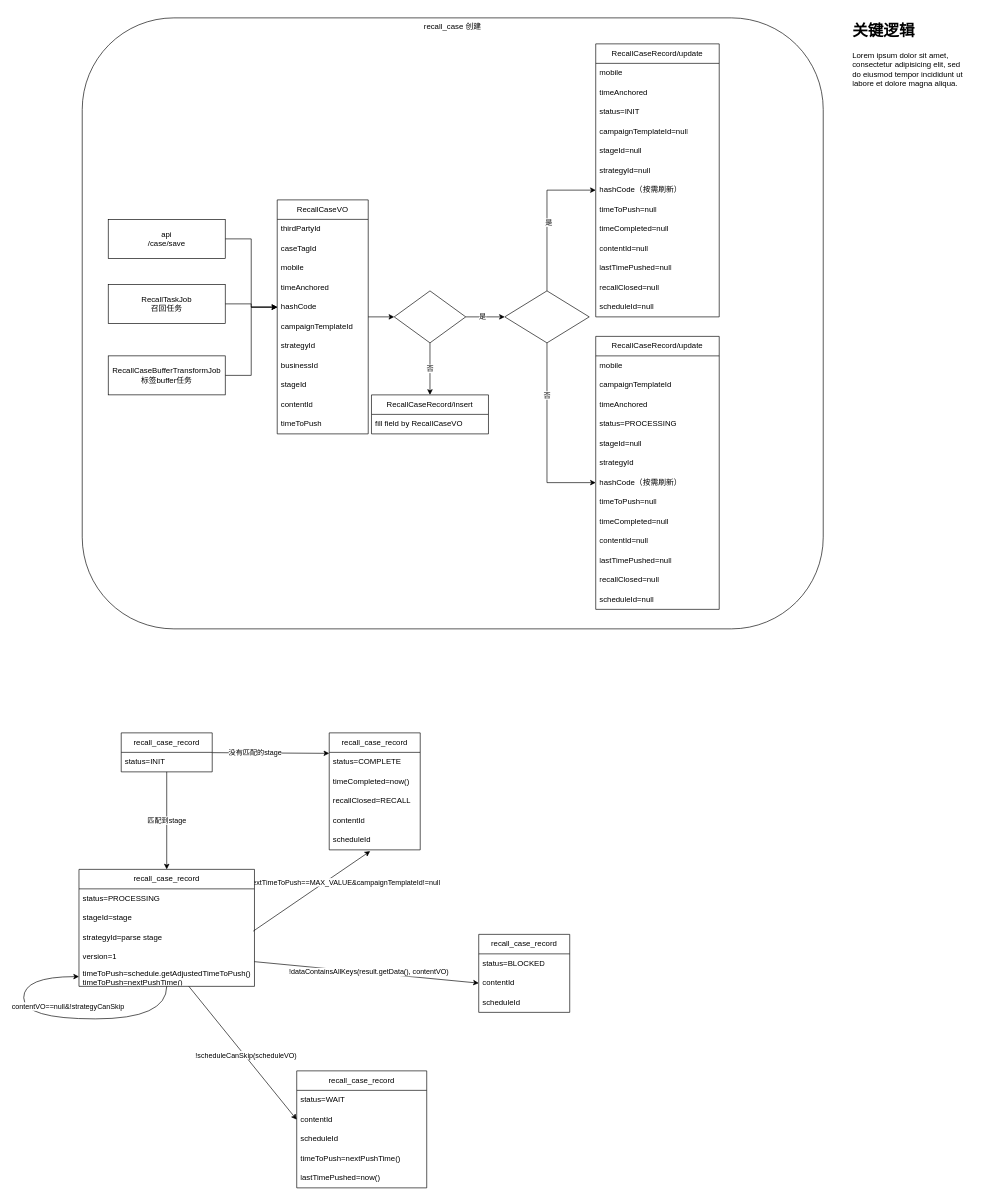
This 983x1199 diagram has some shape labels left out. Here are the shapes that lost their labels. From the top down, the centre of each, then its label:
At (430,316): "thirdPartyId && caseTagId exist record".
At (546,316): "campaignTemplateId == null".
